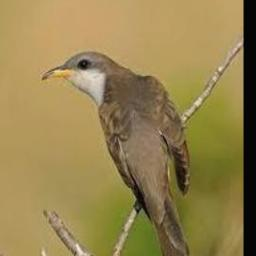Cuckoo: (42, 53, 201, 256)
